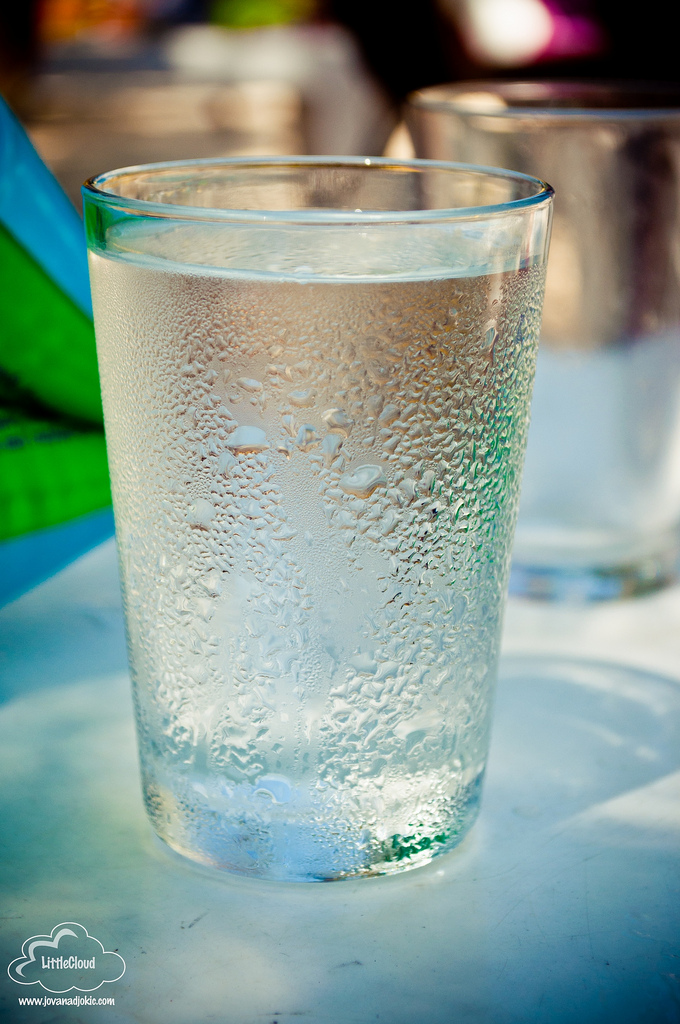glass of water: (63, 155, 559, 881)
